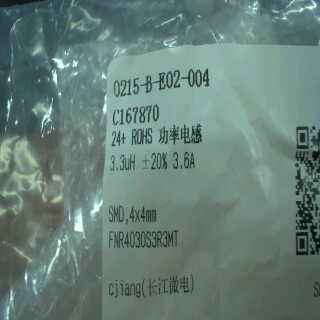3.3uH: (109, 152, 140, 173)
